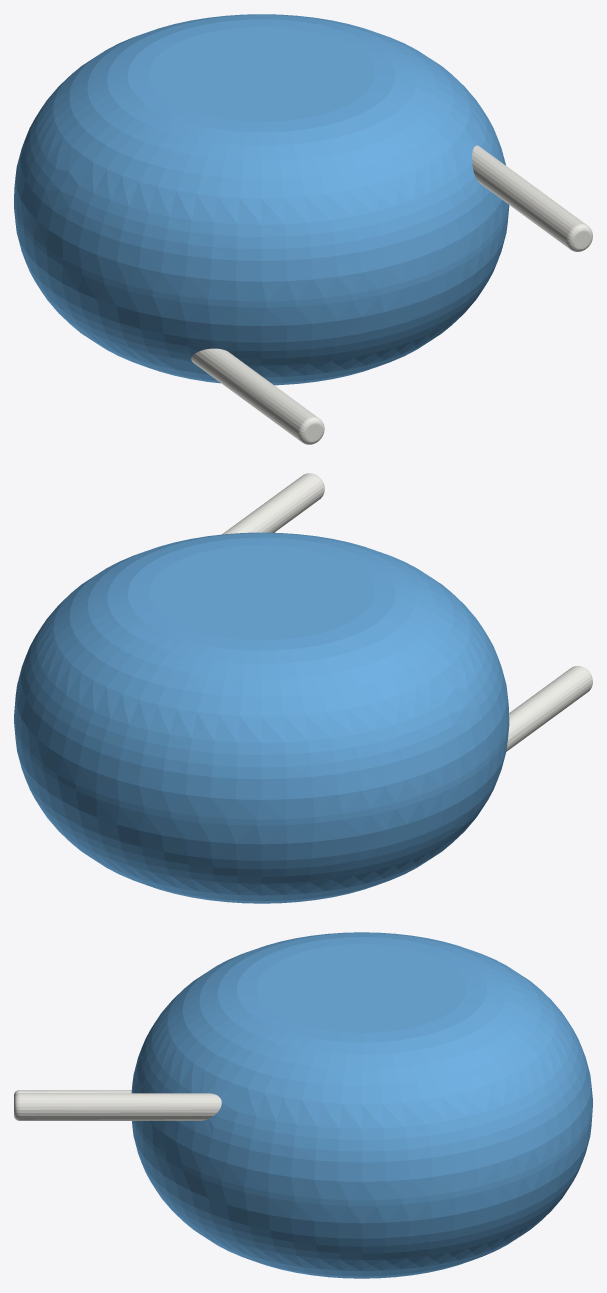
Rendered from RV_Disc_D12mm_W6.7mm_P7.5mm.glb.
The picture shows the model from 3 angles, top to bottom: view 1: azimuth 30°, elevation 25°; view 2: azimuth 150°, elevation 25°; view 3: azimuth 270°, elevation 25°; orthographic projection. The views are drawn at different scales.
Visible parts, largest first — view 1: Shape_IndexedFaceSet.001, Shape_IndexedFaceSet.002, Shape_IndexedFaceSet.003, Shape_IndexedFaceSet.006, Shape_IndexedFaceSet.004, Shape_IndexedFaceSet; view 2: Shape_IndexedFaceSet.001, Shape_IndexedFaceSet.002, Shape_IndexedFaceSet.003, Shape_IndexedFaceSet, Shape_IndexedFaceSet.006, Shape_IndexedFaceSet.004; view 3: Shape_IndexedFaceSet.001, Shape_IndexedFaceSet.002, Shape_IndexedFaceSet.003, Shape_IndexedFaceSet.004, Shape_IndexedFaceSet.
Part boxes in pixels (bbox=[...]): Shape_IndexedFaceSet.001: bbox=[14, 14, 508, 301]; Shape_IndexedFaceSet.002: bbox=[14, 206, 509, 385]; Shape_IndexedFaceSet.003: bbox=[148, 26, 374, 121]; Shape_IndexedFaceSet.006: bbox=[191, 348, 317, 441]; Shape_IndexedFaceSet.004: bbox=[472, 145, 585, 248]; Shape_IndexedFaceSet: bbox=[14, 203, 509, 307]; Shape_IndexedFaceSet.001: bbox=[14, 532, 509, 819]; Shape_IndexedFaceSet.002: bbox=[14, 723, 508, 903]; Shape_IndexedFaceSet.003: bbox=[149, 545, 374, 640]; Shape_IndexedFaceSet: bbox=[14, 717, 509, 825]; Shape_IndexedFaceSet.006: bbox=[506, 666, 591, 751]; Shape_IndexedFaceSet.004: bbox=[222, 473, 323, 534]; Shape_IndexedFaceSet.001: bbox=[131, 932, 592, 1200]; Shape_IndexedFaceSet.002: bbox=[132, 1117, 592, 1278]; Shape_IndexedFaceSet.003: bbox=[256, 944, 466, 1032]; Shape_IndexedFaceSet.004: bbox=[19, 1093, 221, 1120]; Shape_IndexedFaceSet: bbox=[133, 1102, 592, 1205].
Size of the model in its own units: 4.72 by 2.64 by 5.92.
